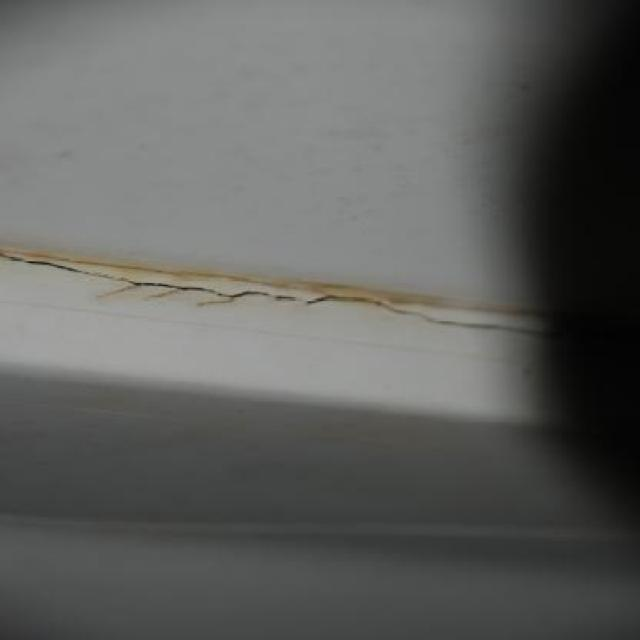crack: (2, 254, 130, 282), (418, 313, 537, 336), (311, 295, 413, 314), (138, 281, 231, 297), (235, 288, 308, 304)
